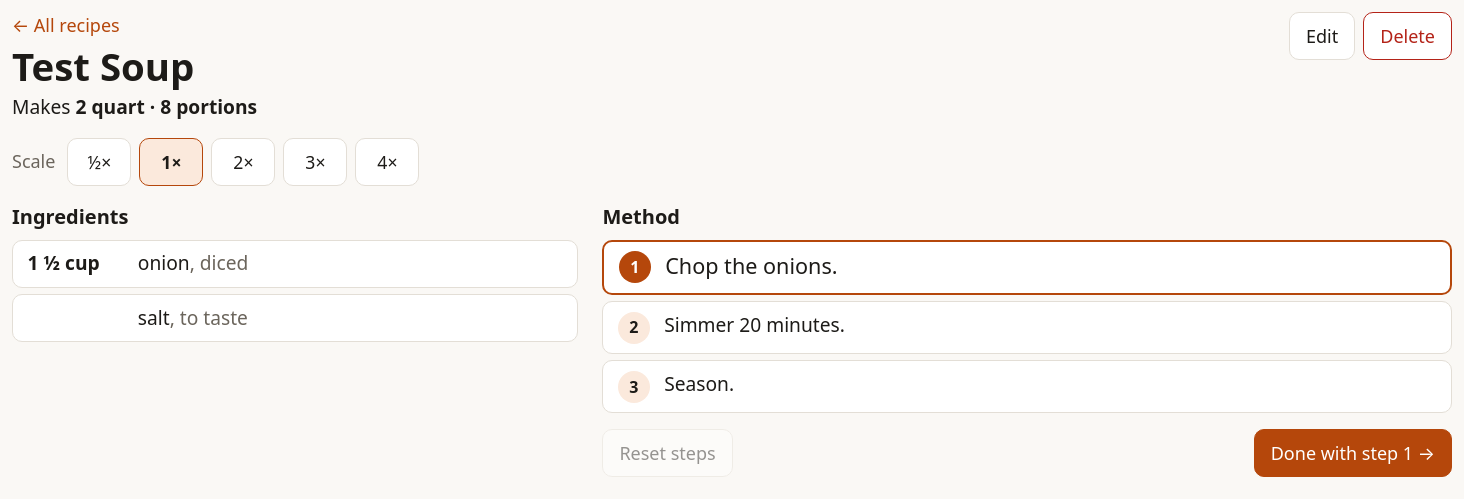
Test: RecipeView (cook mode) › checks steps off in any order and says when all are done
Click the button "3 Season.".
click(634, 387)  # box top-left (602, 360), bottom-right (1452, 414)
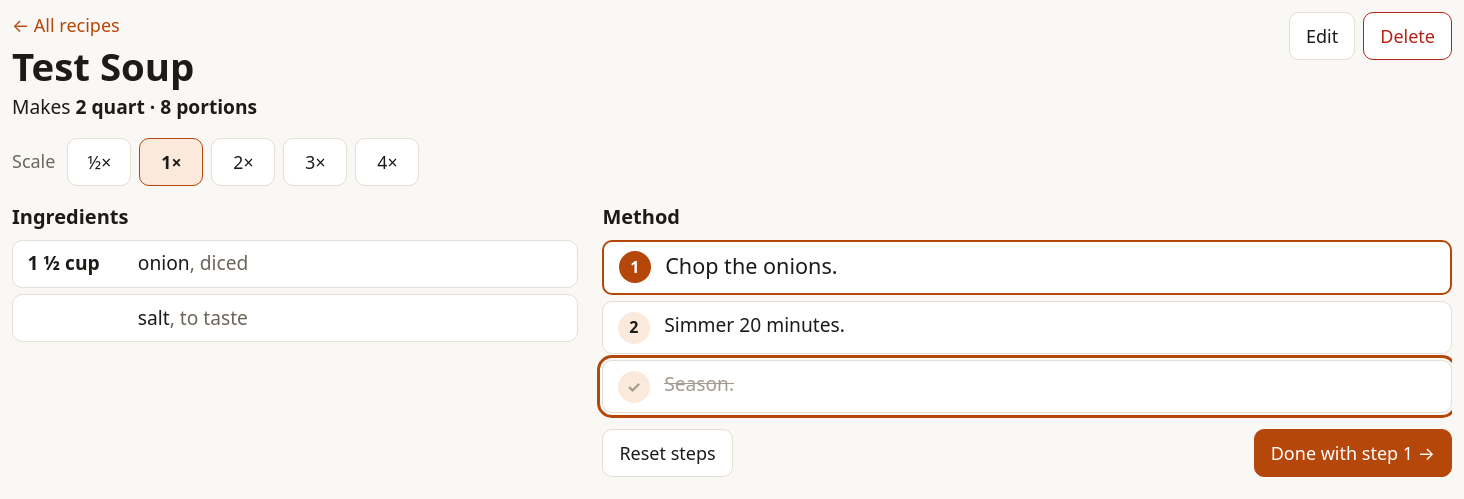
Click the button "Done with step 1 →".
click(1353, 453)  # box top-left (1254, 429), bottom-right (1452, 477)
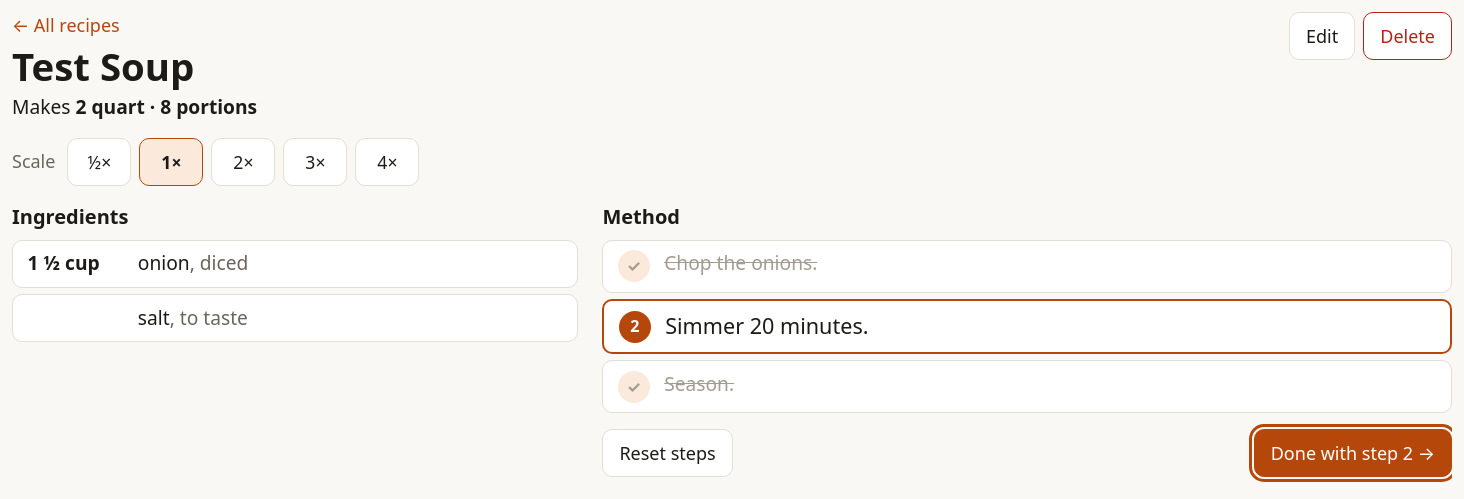
Click the button "Done with step 2 →".
click(1353, 453)  # box top-left (1254, 429), bottom-right (1452, 477)
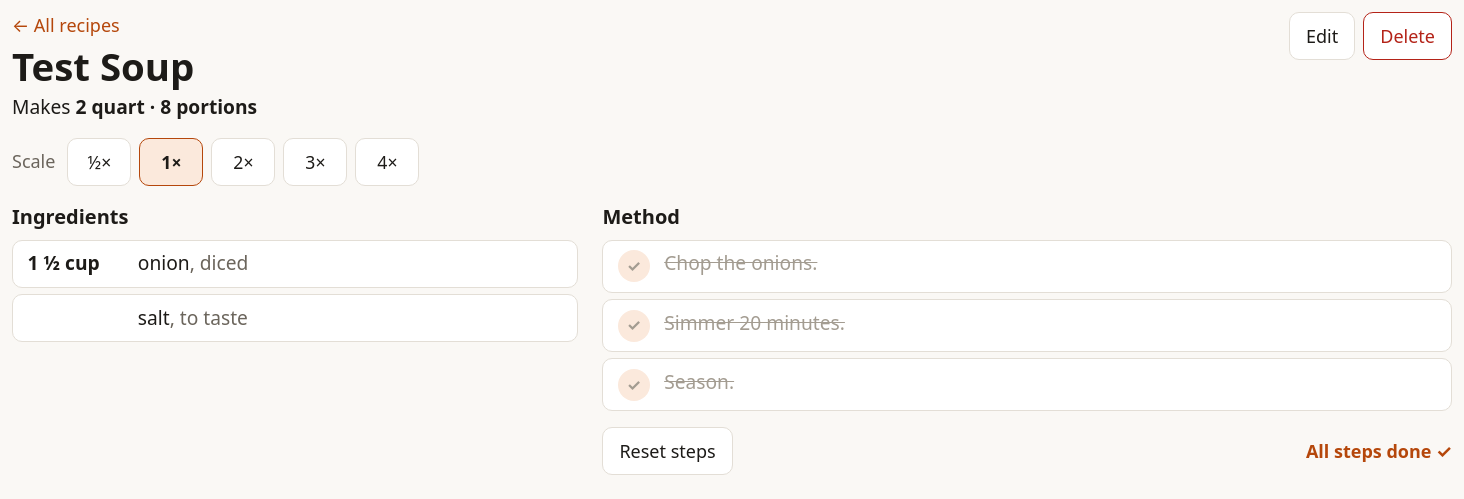
expect the text "All steps done ✓" is shown: met, box top-left (1306, 438), bottom-right (1452, 465)
